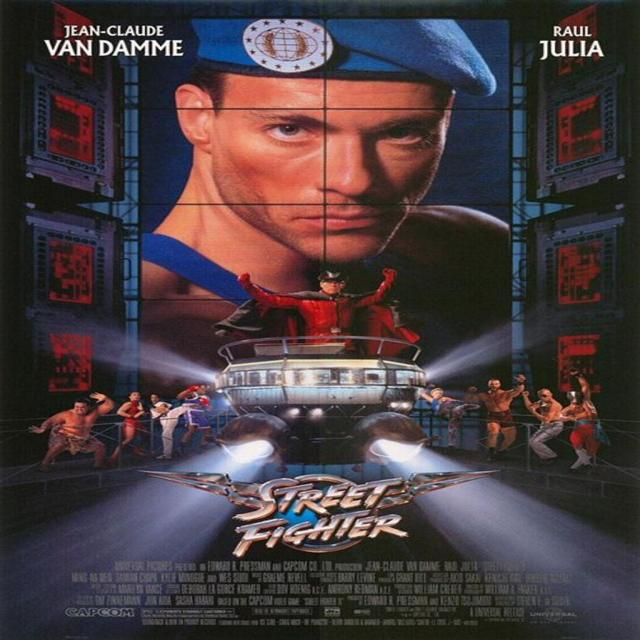nomask: (221, 74, 448, 264)
